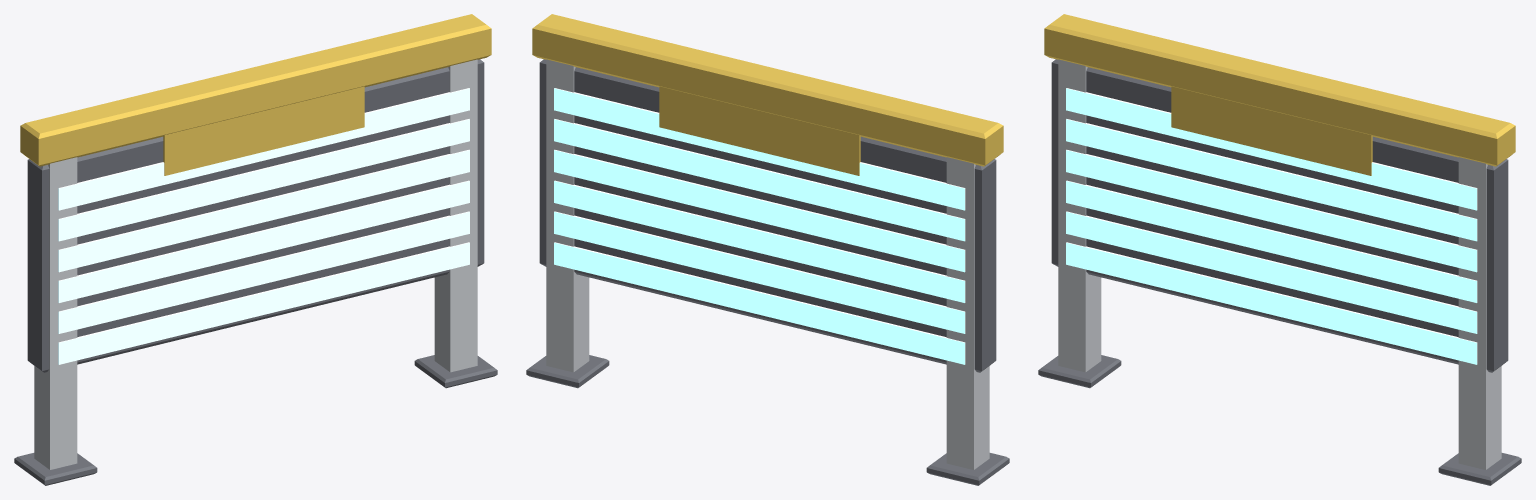
File: airport-terminal-and-ground-operations-departure-board-f2dd52f8.glb
3 renders of one model, left to right at view 1: azimuth 30°, elevation 25°; view 2: azimuth 150°, elevation 25°; view 3: azimuth 330°, elevation 25°, orthographic.
Parts seen in each view (by area): view 1: departure-board-arrivals; view 2: departure-board-arrivals; view 3: departure-board-arrivals.
Part boxes in pixels (x1=…): departure-board-arrivals: x1=14, y1=14, x2=497, y2=485; departure-board-arrivals: x1=526, y1=14, x2=1009, y2=485; departure-board-arrivals: x1=1038, y1=14, x2=1521, y2=485.
Bounding box in the file's own units: 4.3 × 3.15 × 0.4997.
